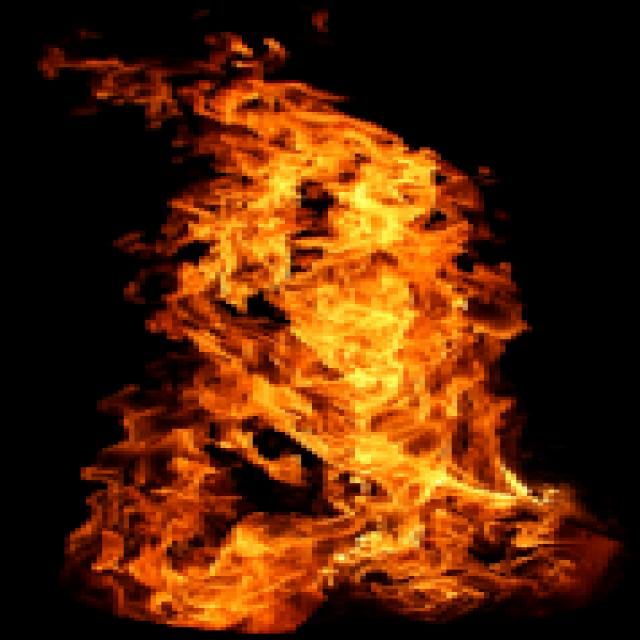fire: (52, 8, 611, 615)
